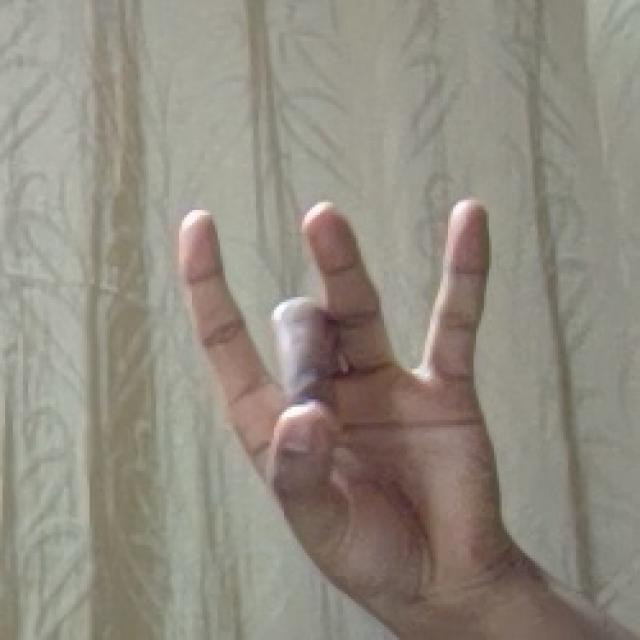Numeric-8: (171, 191, 506, 596)
